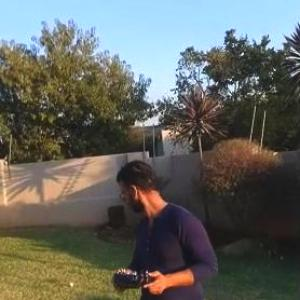follow: (110, 151, 225, 299)
